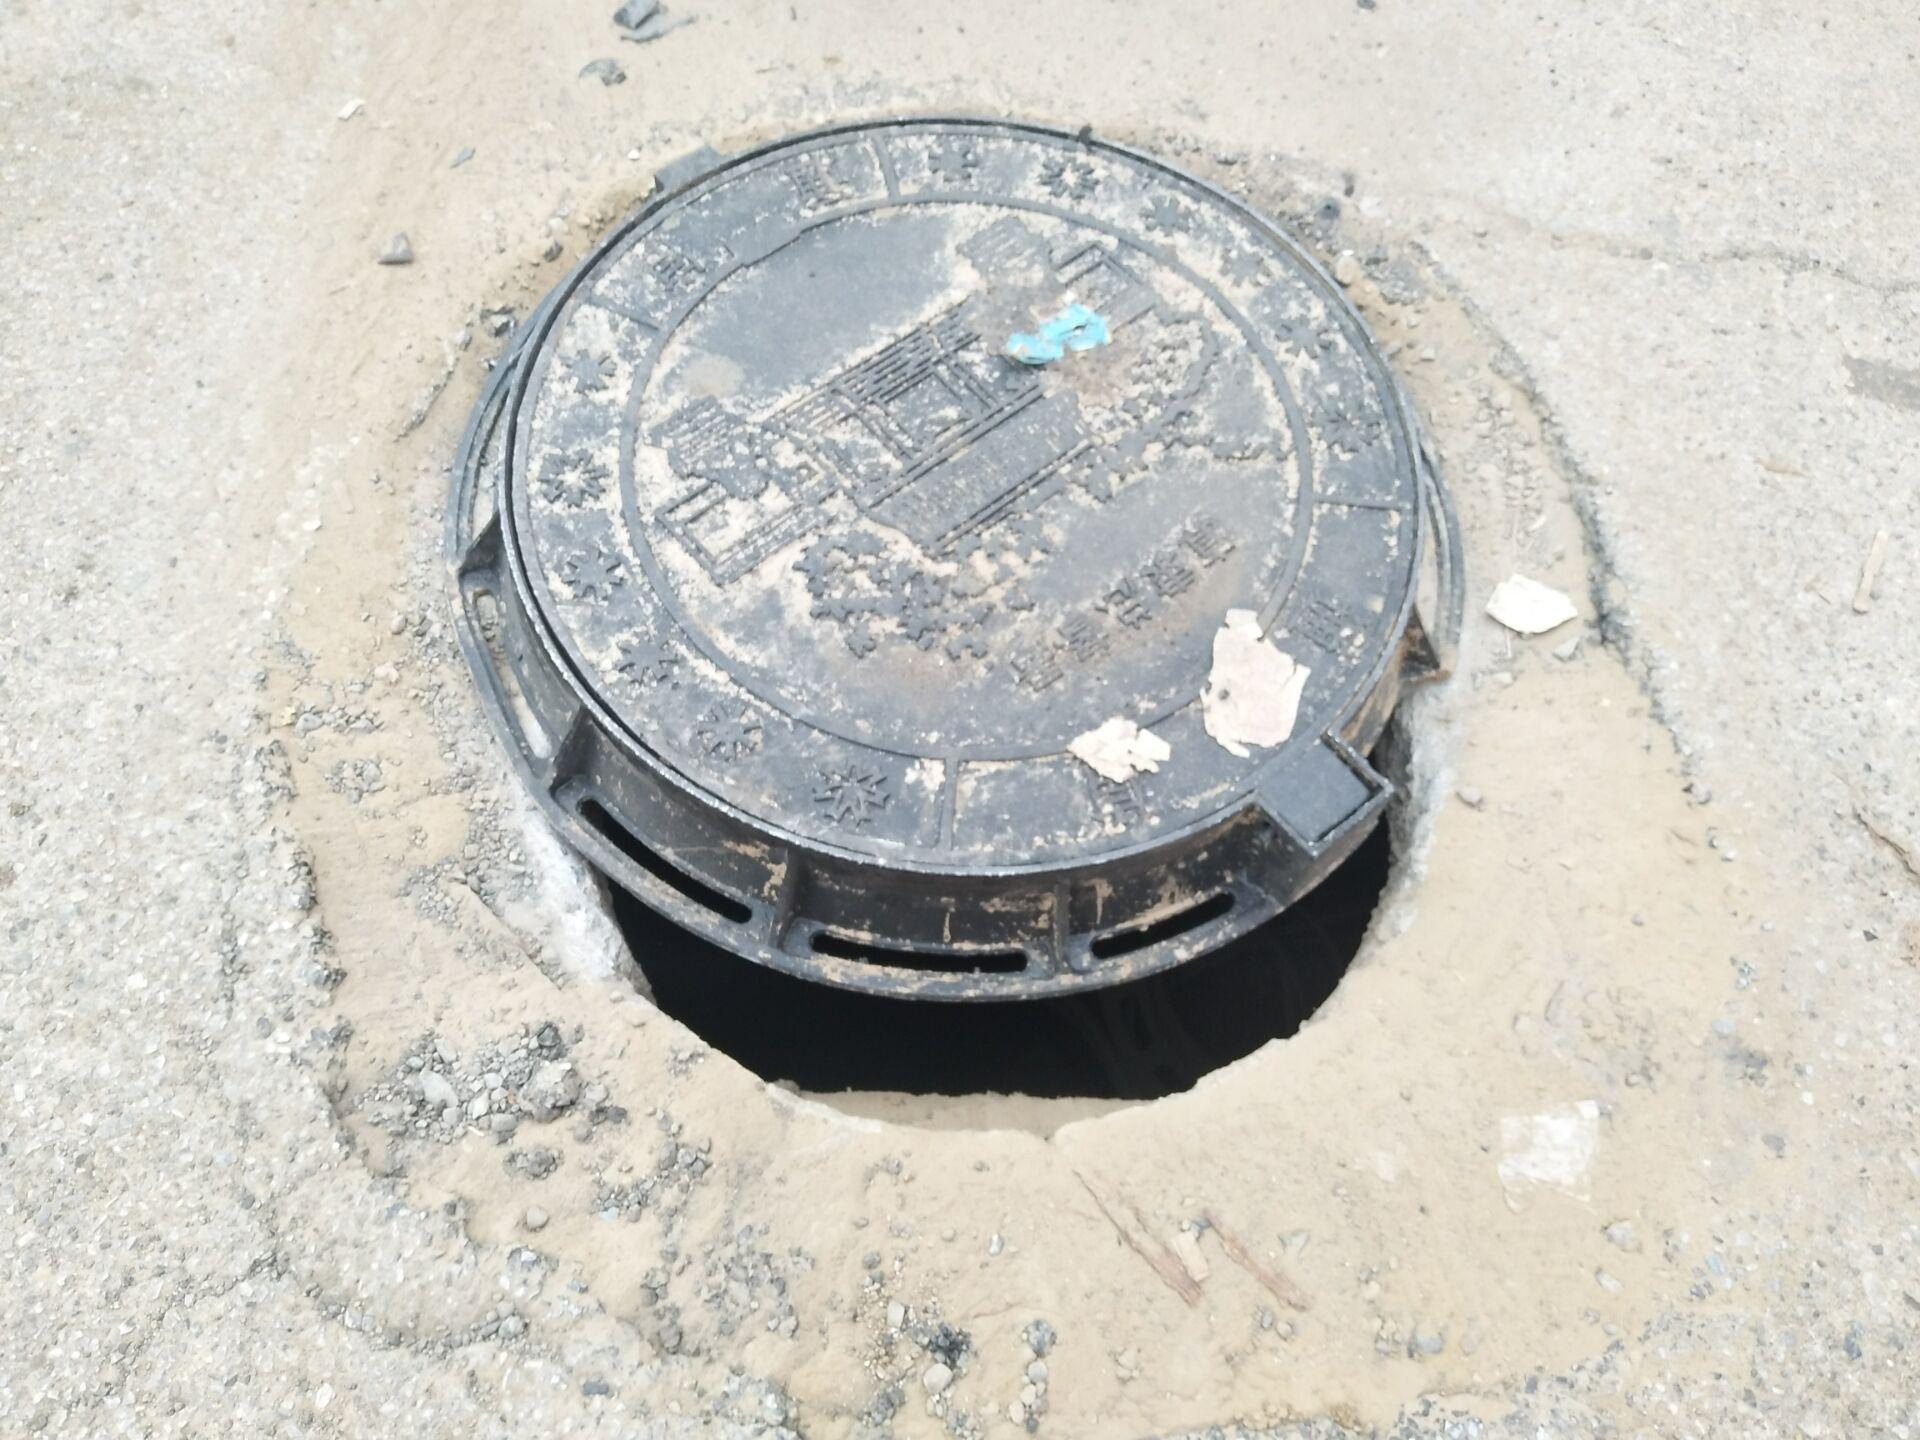wellcover: (449, 59, 1530, 1166)
